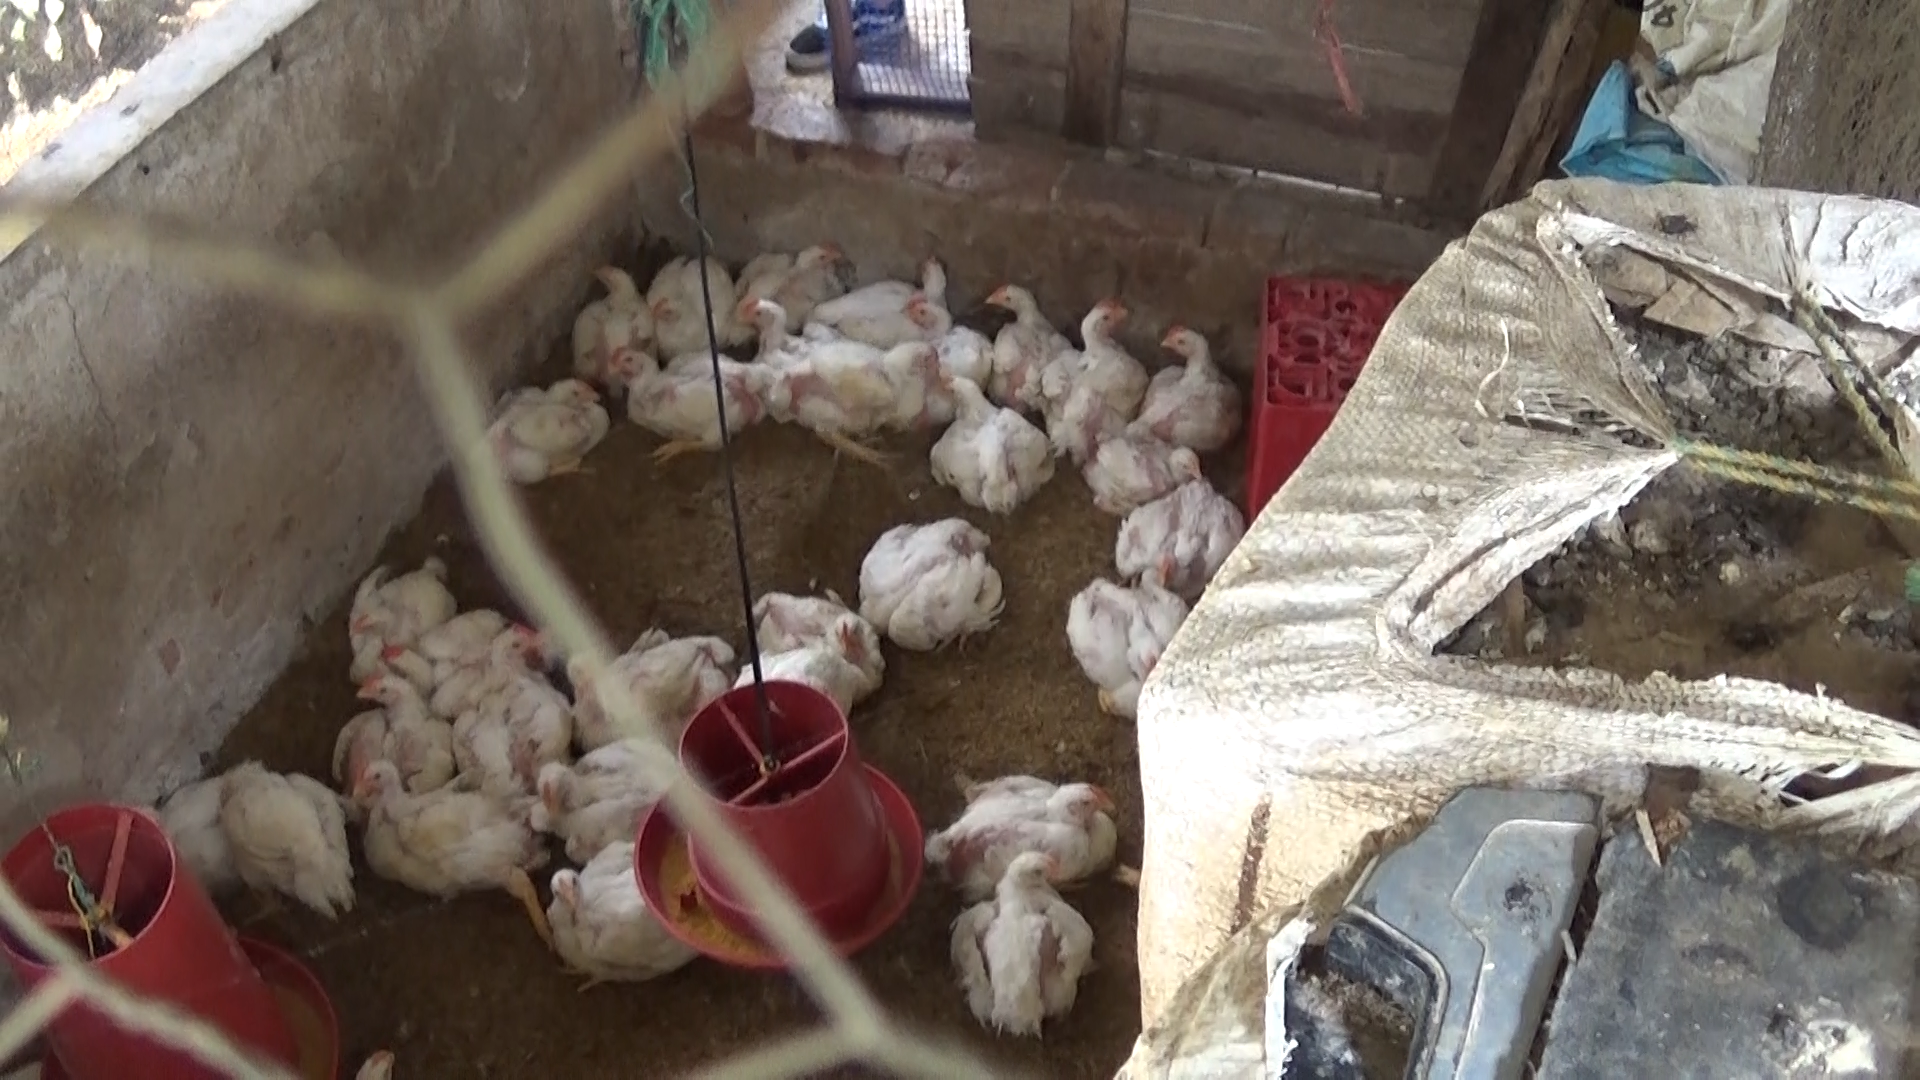Pollos: (945, 841, 1105, 1038), (916, 748, 1139, 884), (527, 839, 711, 984), (347, 757, 530, 893), (204, 753, 345, 911), (1065, 558, 1189, 725), (775, 336, 939, 460), (926, 368, 1056, 510), (870, 509, 996, 657), (597, 342, 758, 454), (1046, 287, 1147, 454), (514, 737, 688, 833), (742, 592, 887, 703), (563, 618, 702, 735), (444, 617, 556, 760), (1121, 469, 1240, 593), (477, 368, 607, 481), (334, 669, 444, 796), (981, 272, 1083, 402), (334, 560, 444, 679), (564, 247, 655, 382), (1079, 418, 1203, 514), (644, 243, 746, 355), (822, 258, 955, 342), (1149, 319, 1234, 444), (898, 291, 1006, 386), (657, 286, 748, 386), (735, 233, 844, 316), (725, 301, 819, 368)
